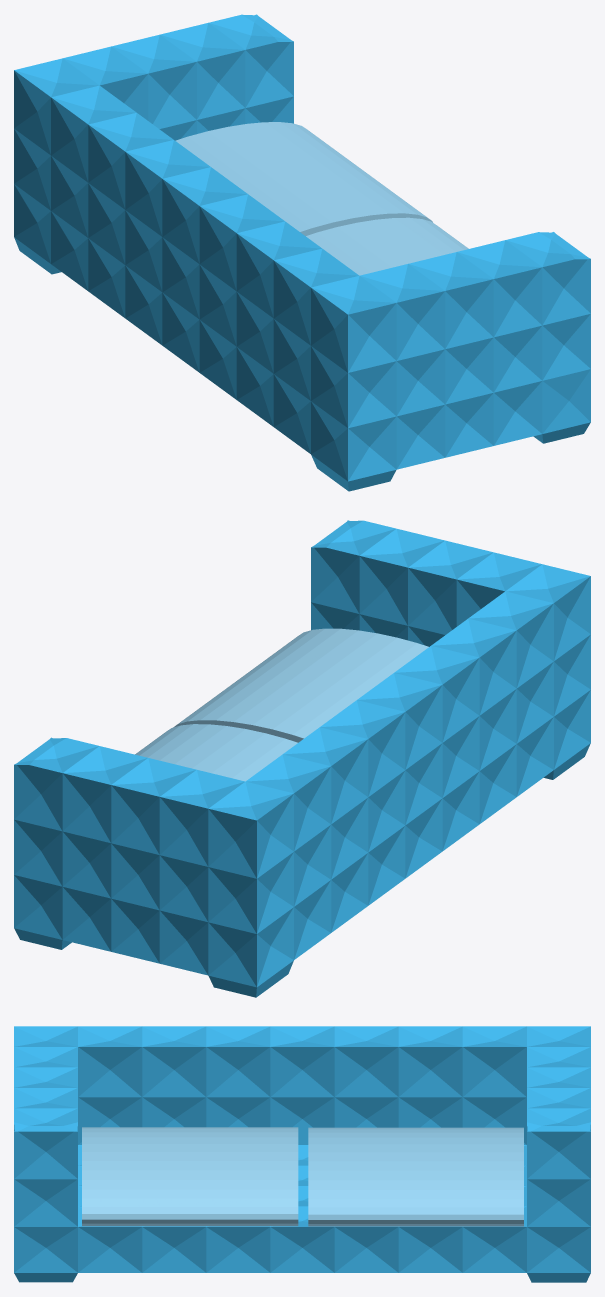
The model's file is FancyCouch1.fbx.
3 renders of one model, top to bottom at view 1: azimuth 30°, elevation 25°; view 2: azimuth 150°, elevation 25°; view 3: azimuth 270°, elevation 25°, orthographic. The views are drawn at different scales.
Parts seen in each view (by area): view 1: Cube, Cylinder.001, Cylinder; view 2: Cube, Cylinder, Cylinder.001; view 3: Cube, Cylinder, Cylinder.001.
Boxes of the visible parts, box(x1,y1,x2,y2) form: Cube: box(14, 14, 590, 491); Cylinder.001: box(175, 122, 432, 235); Cylinder: box(306, 217, 468, 275); Cube: box(14, 520, 590, 997); Cylinder: box(173, 628, 428, 742); Cylinder.001: box(135, 724, 297, 781); Cube: box(14, 1026, 590, 1282); Cylinder: box(82, 1127, 298, 1226); Cylinder.001: box(308, 1127, 523, 1226).
Bounding box in the file's own units: 211 × 141 × 476.
